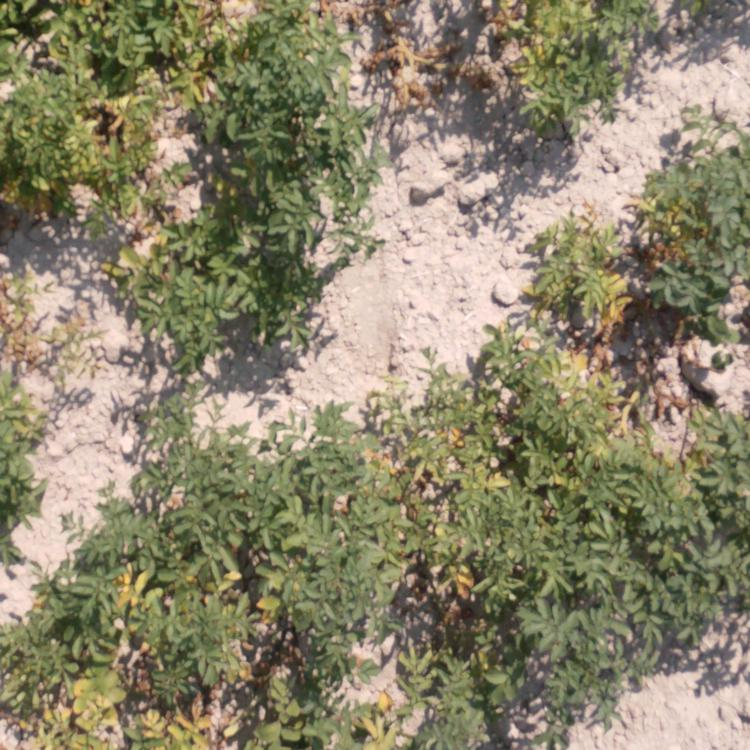healthy: (250, 3, 358, 349), (542, 511, 741, 691), (114, 410, 351, 539)
stressed: (1, 555, 295, 750), (1, 1, 237, 183), (524, 185, 747, 372), (363, 372, 523, 611), (530, 364, 741, 498), (313, 627, 534, 750), (103, 182, 247, 341), (1, 286, 75, 535), (489, 1, 607, 140), (615, 1, 748, 49), (375, 36, 432, 115)
